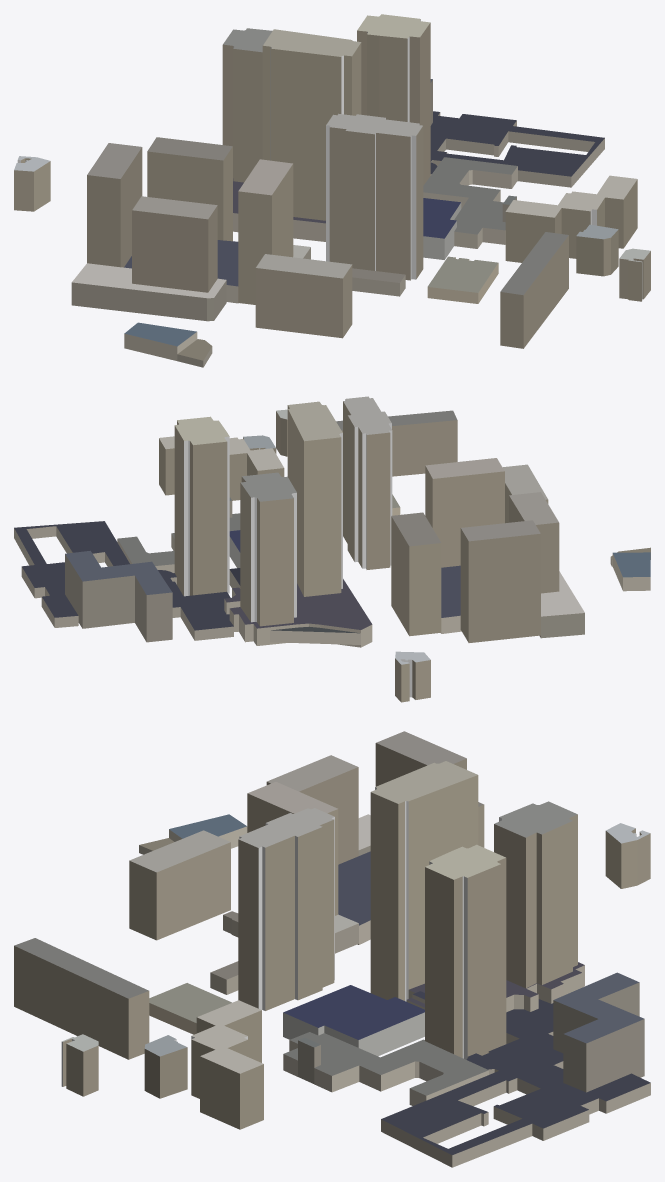
3 views of the same model, one above another, from view 1: azimuth 30°, elevation 25°; view 2: azimuth 150°, elevation 25°; view 3: azimuth 270°, elevation 25° (orthographic). The views are drawn at different scales.
Parts seen in each view (by area): view 1: tuile; view 2: tuile; view 3: tuile.
Part boxes in pixels (left/top/right/bottom): tuile: left=14, top=14, right=650, bottom=367; tuile: left=14, top=396, right=650, bottom=702; tuile: left=14, top=731, right=650, bottom=1167.
Size of the model in its own units: 330 by 103 by 276.
